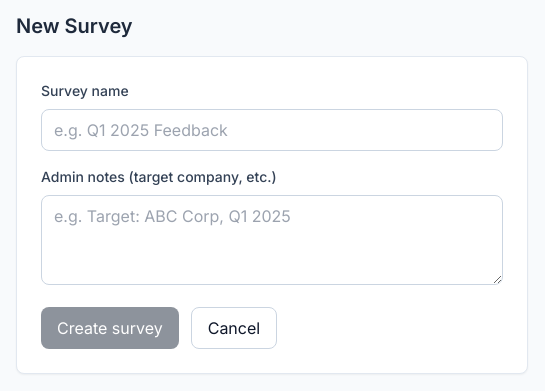
Test: SurveyCreate › shows success screen with access code after creation
Type "My Survey" into the field with placeholder "e.g. Q1 2025 Feedback".
click(272, 130); type("My Survey")  # box top-left (41, 109), bottom-right (503, 151)
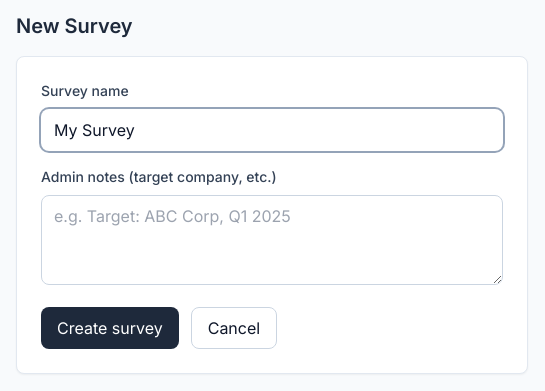
Click the button "Create survey".
click(110, 328)  # box top-left (41, 307), bottom-right (179, 349)
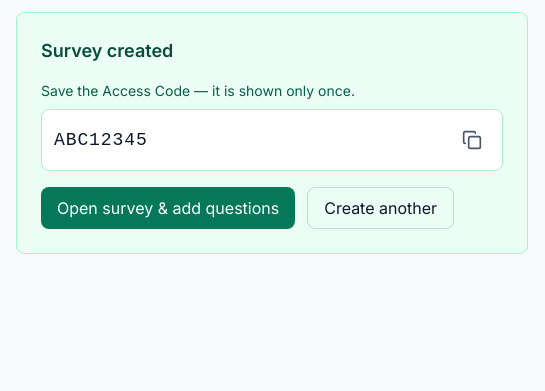
Expected: the heading "Survey created" is shown, top-left (41, 40), bottom-right (173, 61)
Expected: the text "ABC12345" is shown, top-left (54, 130), bottom-right (148, 150)
Expected: the button "Open survey & add questions" is shown, top-left (41, 187), bottom-right (295, 229)
